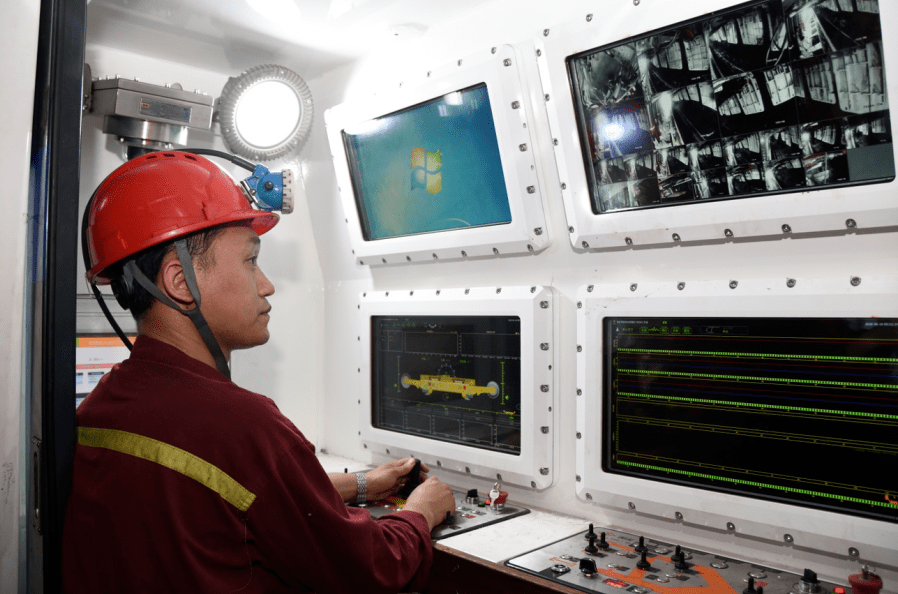helmet: (86, 142, 303, 368)
